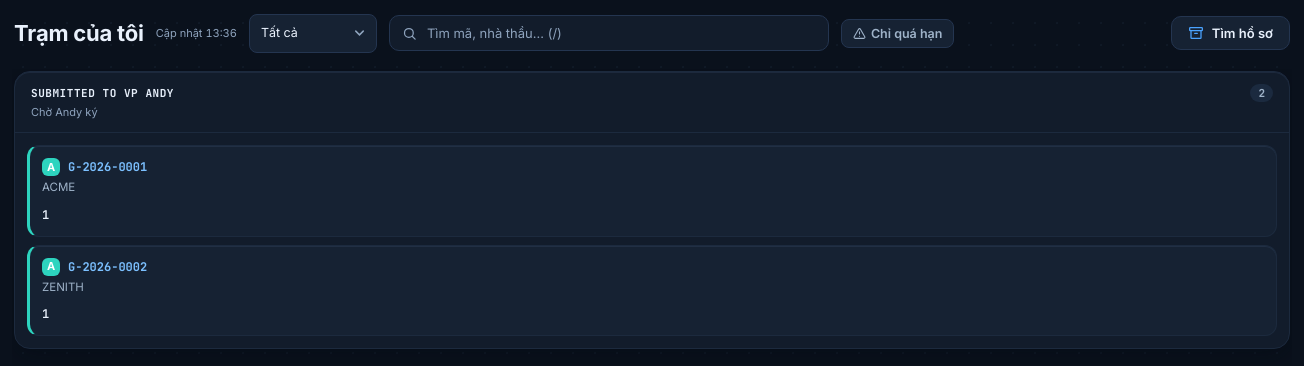
Test: StationBoard — filter reflects the count & empty state (UX H1) › shows a matched/total count and hides non-matching cards when filtering
Expected: the button "G-2026-0001" is shown, [68, 159, 147, 175]
Type "ACME" into the field named "Tìm hồ sơ trong bảng" at coordinates (620, 33), box [425, 24, 816, 42]
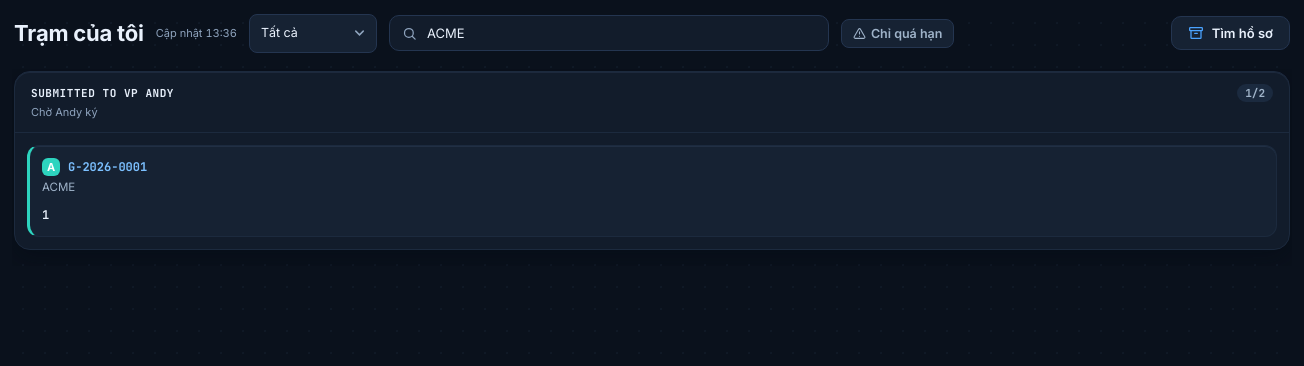
Now the text "1/2" is shown, box [1237, 84, 1273, 102]
Now the button "G-2026-0002" is gone
